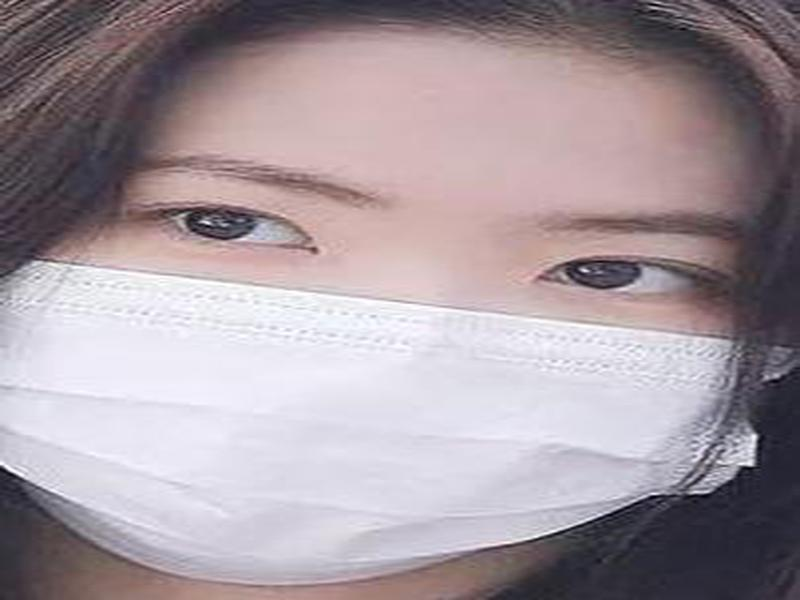with_mask: (1, 2, 775, 586)
